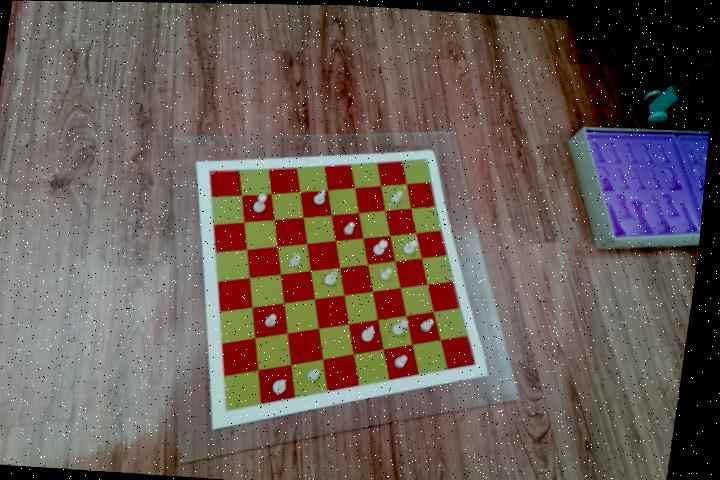chessboard-detect: (212, 156, 484, 409)
